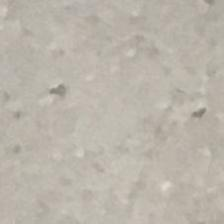Non_Crack: (31, 13, 222, 224)
